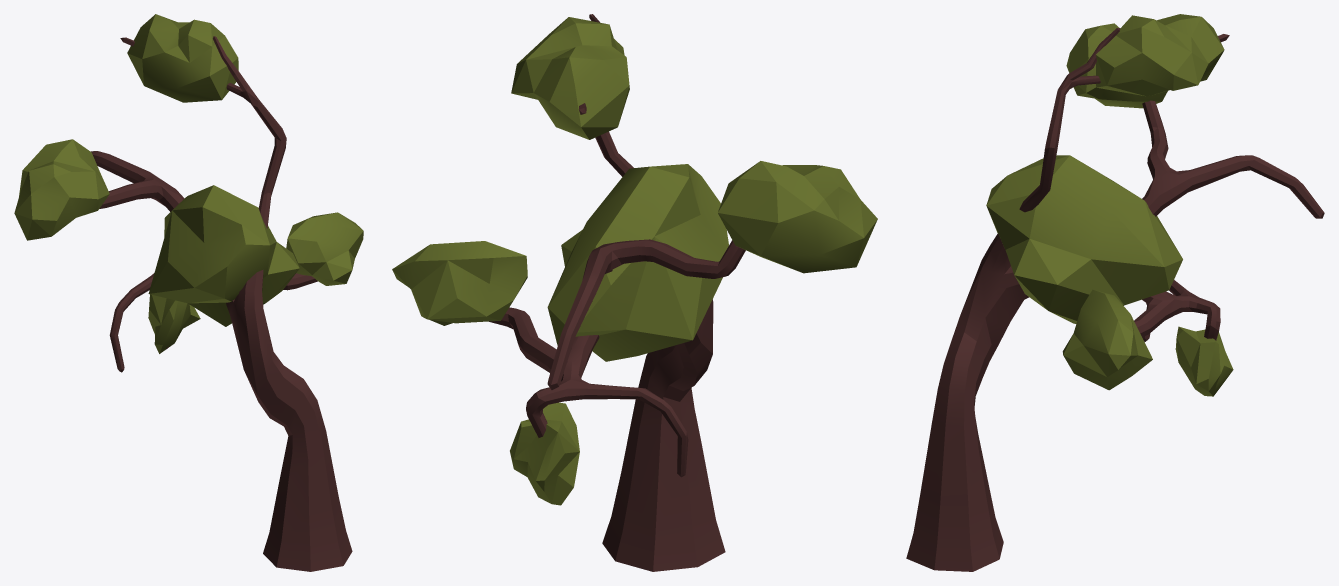
Rendered from ea_nature_tree_13c_pre_2_lev1.glb.
3 renders of one model, left to right at view 1: azimuth 30°, elevation 25°; view 2: azimuth 150°, elevation 25°; view 3: azimuth 270°, elevation 25°, orthographic. The views are drawn at different scales.
Parts seen in each view (by area): view 1: ea_nature_tree_13c_pre_2_lev1; view 2: ea_nature_tree_13c_pre_2_lev1; view 3: ea_nature_tree_13c_pre_2_lev1.
Boxes of the visible parts, x1,y1,x2,y2 form: ea_nature_tree_13c_pre_2_lev1: (14, 14, 363, 571); ea_nature_tree_13c_pre_2_lev1: (392, 14, 877, 571); ea_nature_tree_13c_pre_2_lev1: (906, 14, 1324, 571).
Size of the model in its own units: 6.95 by 8.9 by 6.49.
Materials: 1 (1 with a texture image).
